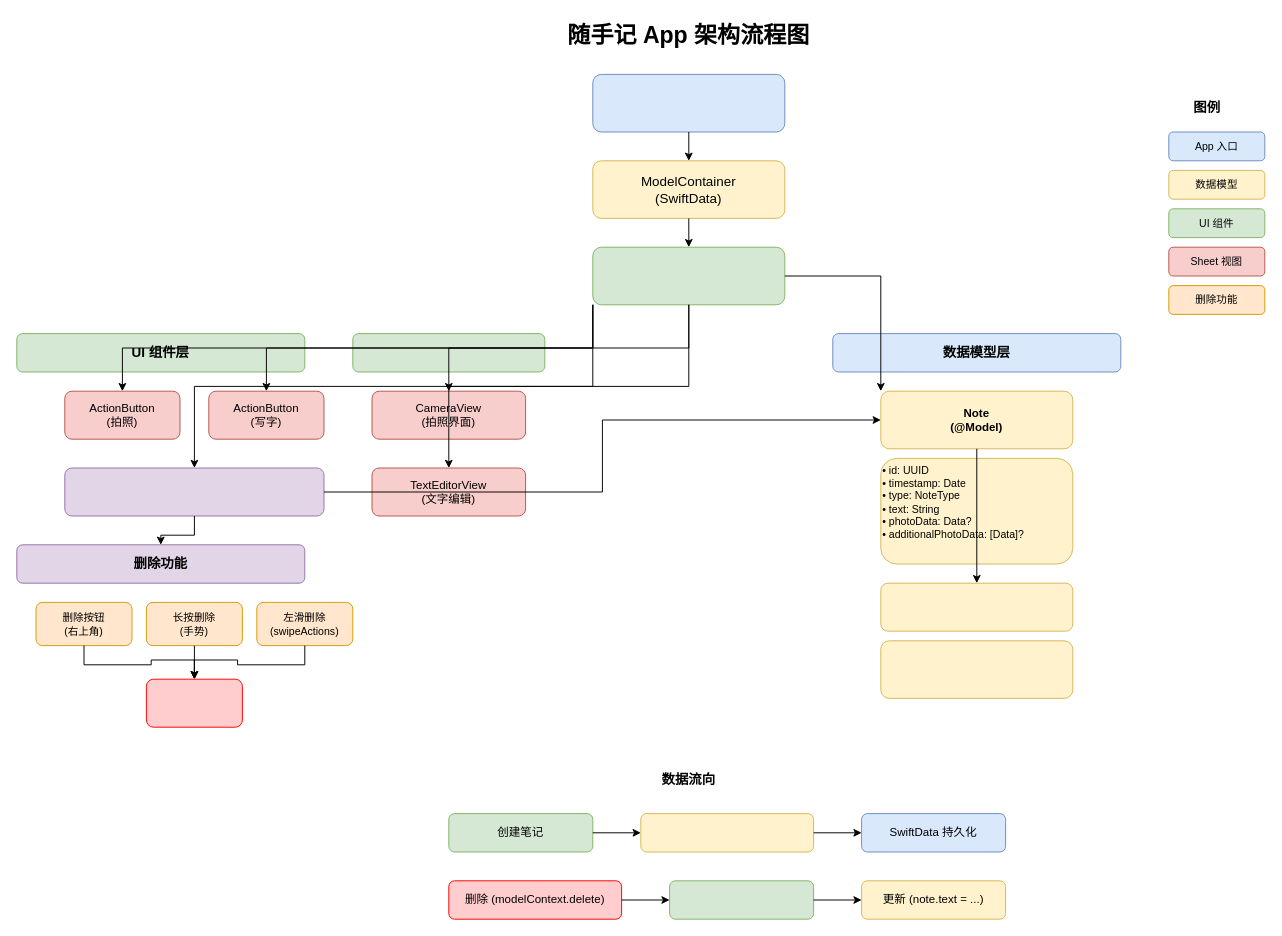
Image size: 1282x936. Some labels were removed from this diagram. The centre of each missing label's shape, as x and y in pixels:
"ContentView (主界面)" goes at (x=688, y=275).
"NoteRow (笔记列表项)" goes at (x=194, y=491).
"NoteType (enum)" goes at (x=976, y=606).
"Sheet 视图层" goes at (x=448, y=352).
"SuishoujiApp (App 入口)" goes at (x=688, y=102).
"• text • photo • mixed" goes at (x=976, y=669).
"保存 (modelContext.insert)" goes at (x=727, y=832).
"确认对话框 (Alert)" goes at (x=193, y=702).
"编辑笔记" goes at (x=741, y=899).
